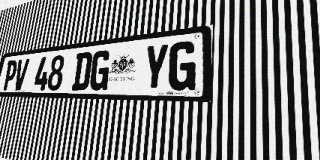4: (33, 56, 52, 90)
8: (46, 54, 66, 90)
D: (71, 51, 93, 90)
G: (167, 40, 197, 90), (88, 49, 112, 90)
P: (2, 60, 18, 90)
V: (12, 58, 30, 90)
Y: (142, 43, 169, 90)
